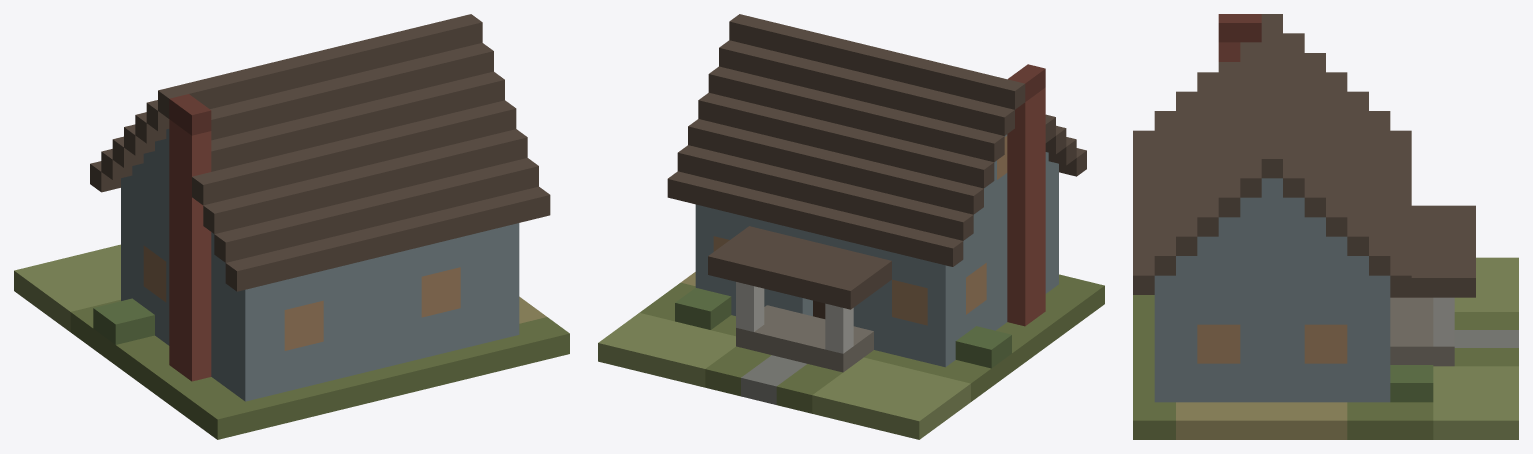
The model's file is Claude_small_family_house.glb.
The picture shows the model from 3 angles, left to right: view 1: azimuth 30°, elevation 25°; view 2: azimuth 150°, elevation 25°; view 3: azimuth 270°, elevation 25°; orthographic projection. The views are drawn at different scales.
Visible parts, largest first — view 1: Claude_small_family_house; view 2: Claude_small_family_house; view 3: Claude_small_family_house.
Boxes of the visible parts, <box> form: Claude_small_family_house: <box>14,14,569,439</box>; Claude_small_family_house: <box>598,14,1104,439</box>; Claude_small_family_house: <box>1133,14,1518,439</box>.
Bounding box in the file's own units: 9 × 7 × 9.
